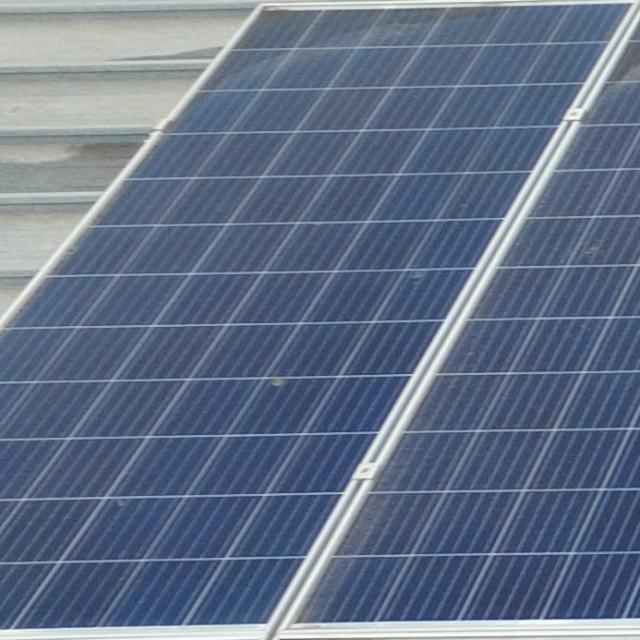Dust: (286, 440, 426, 640), (216, 0, 494, 71), (614, 20, 640, 129)
bird-droppings: (407, 266, 426, 290), (267, 374, 288, 390)
